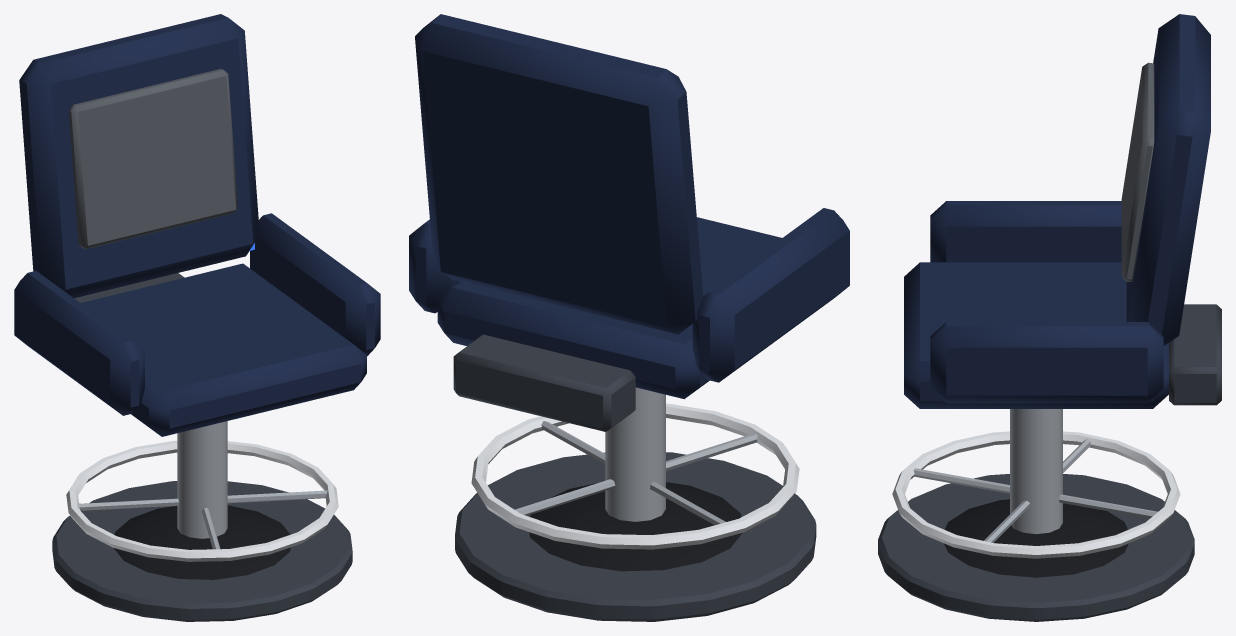
File: seat_helm_chair.glb
The picture shows the model from 3 angles, left to right: view 1: azimuth 30°, elevation 25°; view 2: azimuth 150°, elevation 25°; view 3: azimuth 270°, elevation 25°; orthographic projection. The views are drawn at different scales.
Visible parts, largest first — view 1: seat_helm_chair; view 2: seat_helm_chair; view 3: seat_helm_chair.
Boxes of the visible parts, x1=… form: seat_helm_chair: x1=14, y1=14, x2=380, y2=621; seat_helm_chair: x1=409, y1=14, x2=849, y2=621; seat_helm_chair: x1=878, y1=14, x2=1221, y2=621.
Bounding box in the file's own units: 0.62 × 1.03 × 0.6487.
